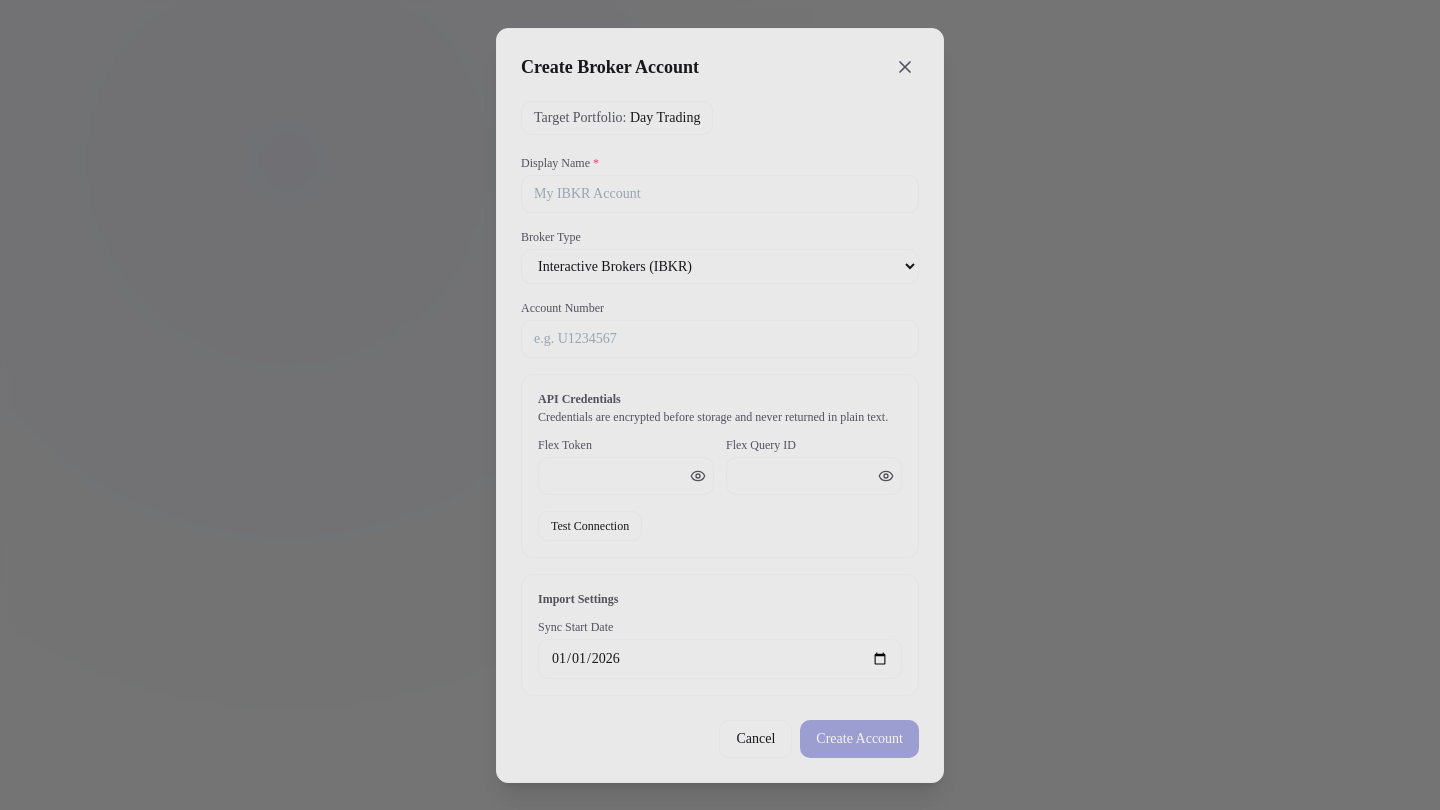
Test: BrokerAccountCreateModal › shows Schwab credential fields when type is changed to Schwab
Select "Charles Schwab" in the dropdown with test id "broker-type-select": (720, 266) [521,248,919,284]
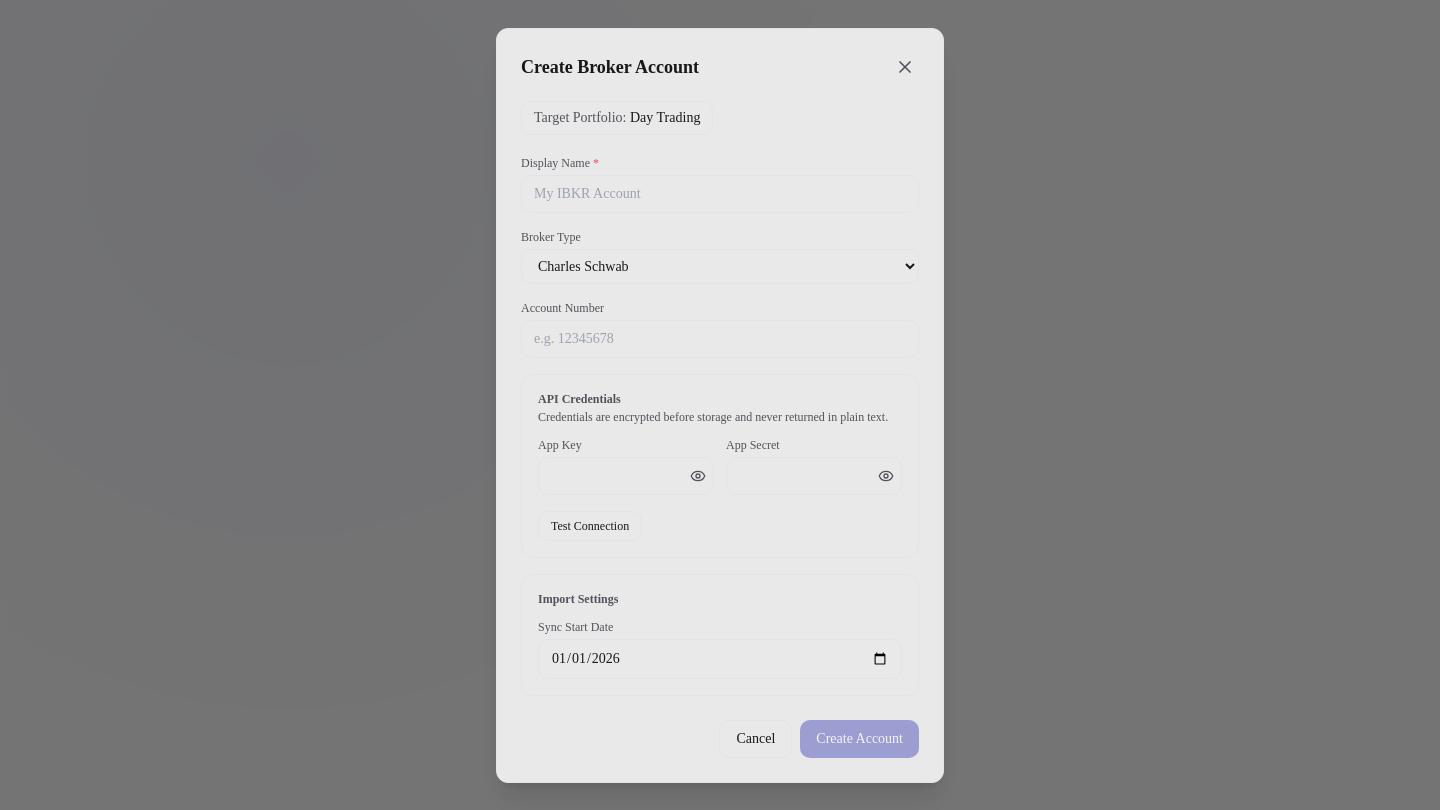
Expected: the label labelled "Flex Token" is gone
